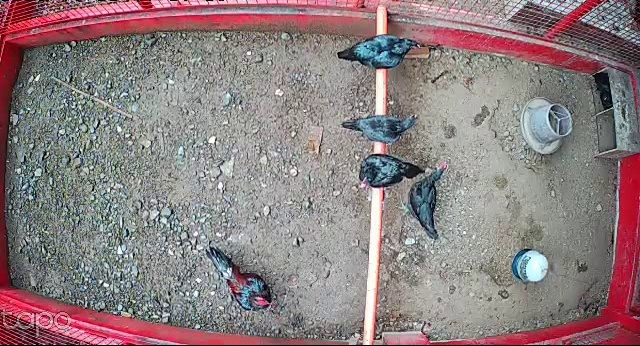Chicken: (395, 160, 450, 240), (337, 29, 424, 73), (341, 108, 424, 144), (352, 152, 427, 191)
Drinker: (511, 247, 551, 282)
Feeder: (520, 94, 573, 156)
Rooster: (205, 245, 274, 312)
